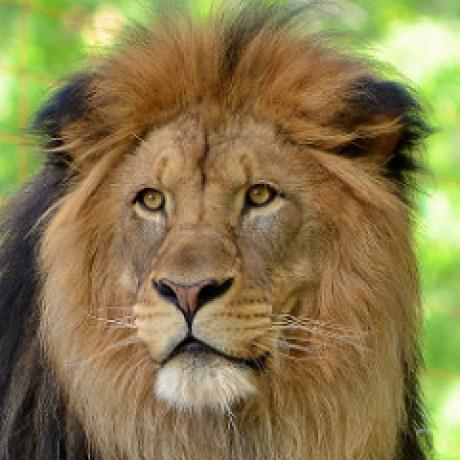Lion: (0, 0, 427, 460)
